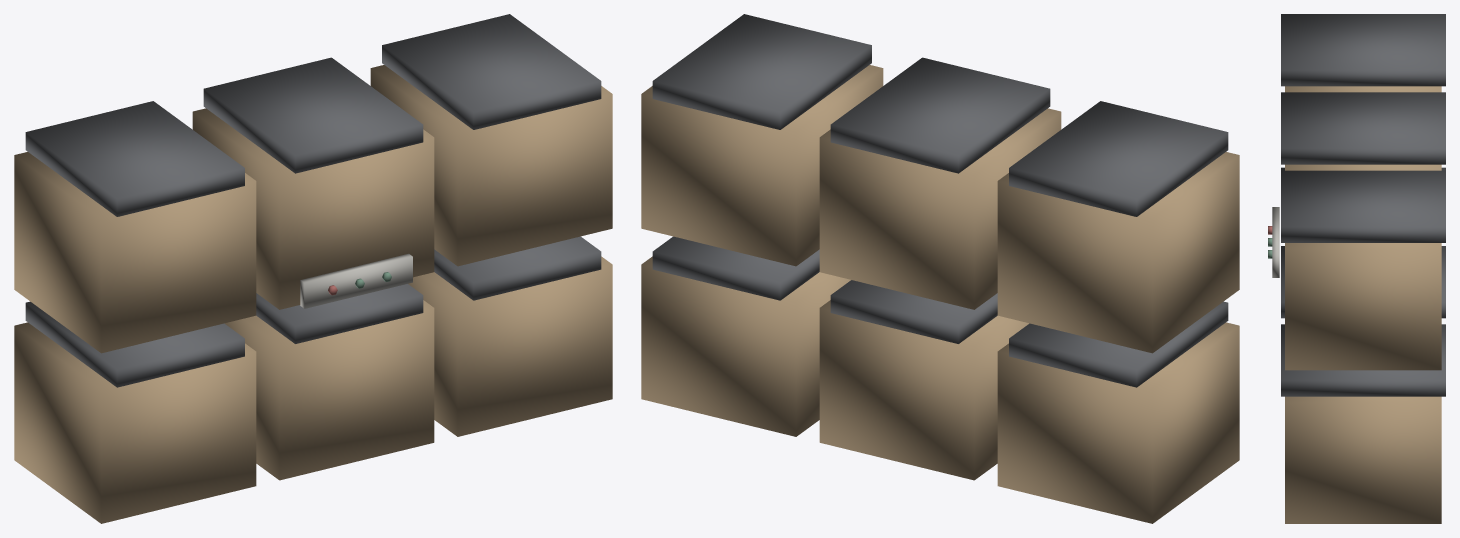
The model's file is market_produce_rack__compact.glb.
3 renders of one model, left to right at view 1: azimuth 30°, elevation 25°; view 2: azimuth 150°, elevation 25°; view 3: azimuth 270°, elevation 25°, orthographic. The views are drawn at different scales.
Visible parts, largest first — view 1: world; view 2: world; view 3: world.
Part boxes in pixels (x1,y1,x2,y2): world: (14, 14, 612, 523); world: (641, 14, 1239, 523); world: (1268, 14, 1445, 523).
Bounding box in the file's own units: 1.11 × 0.6696 × 0.3707.
